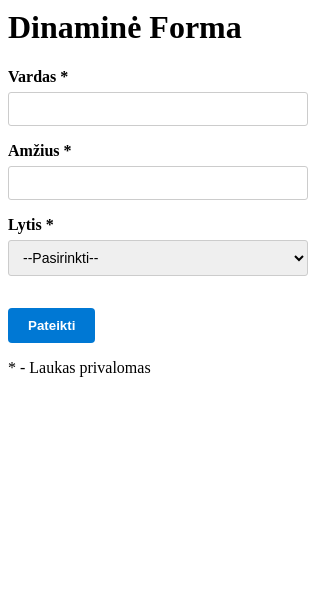
Scenario: DynamicForm - validation and conditions › Discount Code visibility logic › should show Discount Code when Age < 26 and Student ID entered
In the number field with id "age": (158, 183) x1=8 y1=166 x2=308 y2=200, type "25"
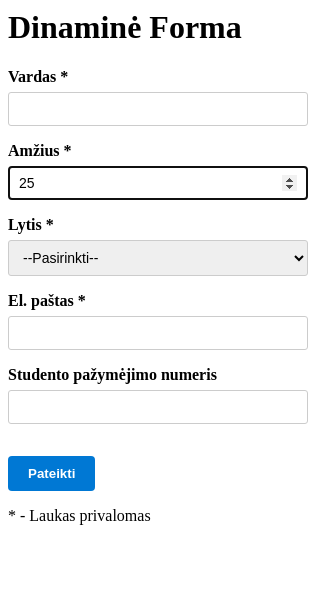
In the field with id "studentId": (158, 407) x1=8 y1=390 x2=308 y2=424, type "STU-123"
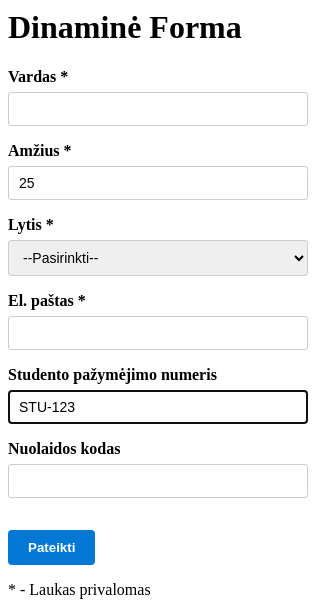
Check: the field with id "discountCode" is shown, box x1=8 y1=464 x2=308 y2=498
